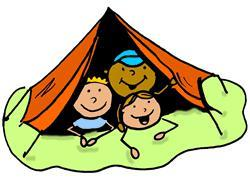person: (103, 48, 179, 133), (119, 92, 180, 160), (65, 77, 113, 147)
